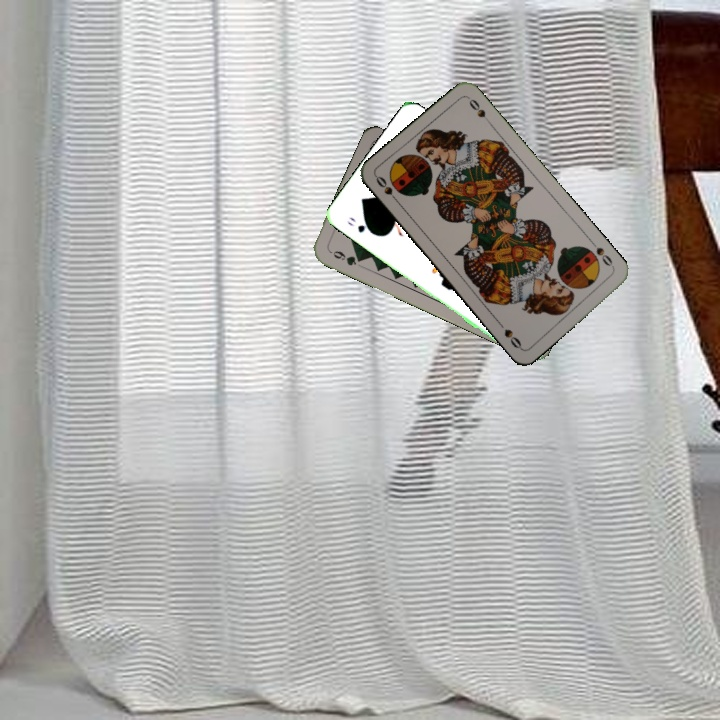G9: (325, 246, 365, 268)
GO: (342, 213, 377, 237)
SO: (372, 172, 402, 206), (592, 243, 617, 272)
